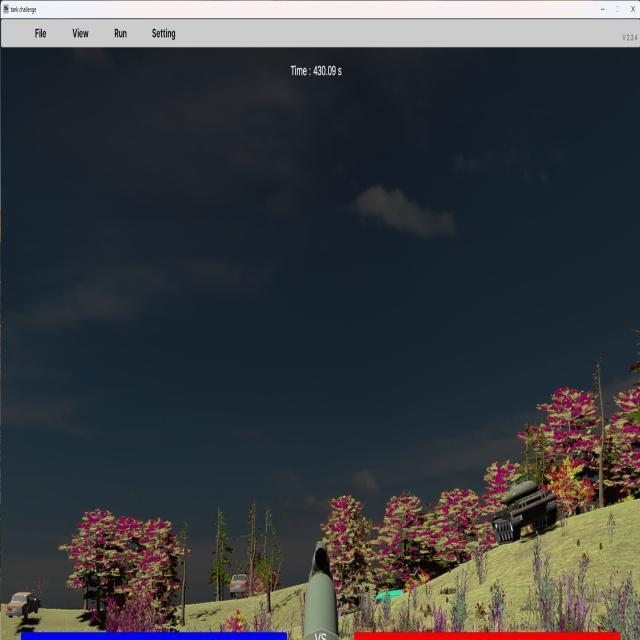Tank: (491, 479, 558, 544)
car: (6, 591, 41, 619)
